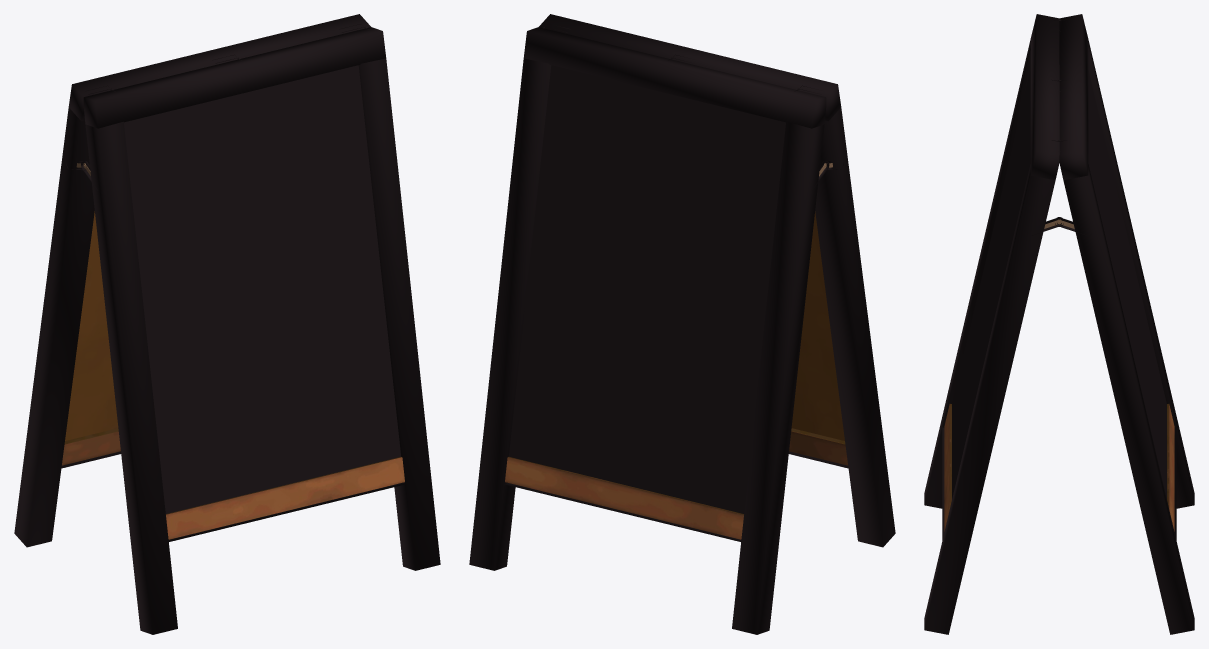
File: SM_Int_Chalkboard.fbx
The picture shows the model from 3 angles, left to right: view 1: azimuth 30°, elevation 25°; view 2: azimuth 150°, elevation 25°; view 3: azimuth 270°, elevation 25°; orthographic projection. The views are drawn at different scales.
Parts seen in each view (by area): view 1: SM_Int_Chalkboard; view 2: SM_Int_Chalkboard; view 3: SM_Int_Chalkboard.
Part boxes in pixels (box(x1,y1,x2,y2)): SM_Int_Chalkboard: box(14, 14, 440, 634); SM_Int_Chalkboard: box(469, 14, 895, 634); SM_Int_Chalkboard: box(924, 14, 1194, 634).
Size of what is drawn, in the model's own units: 0.991 by 1.61 by 0.8154.
